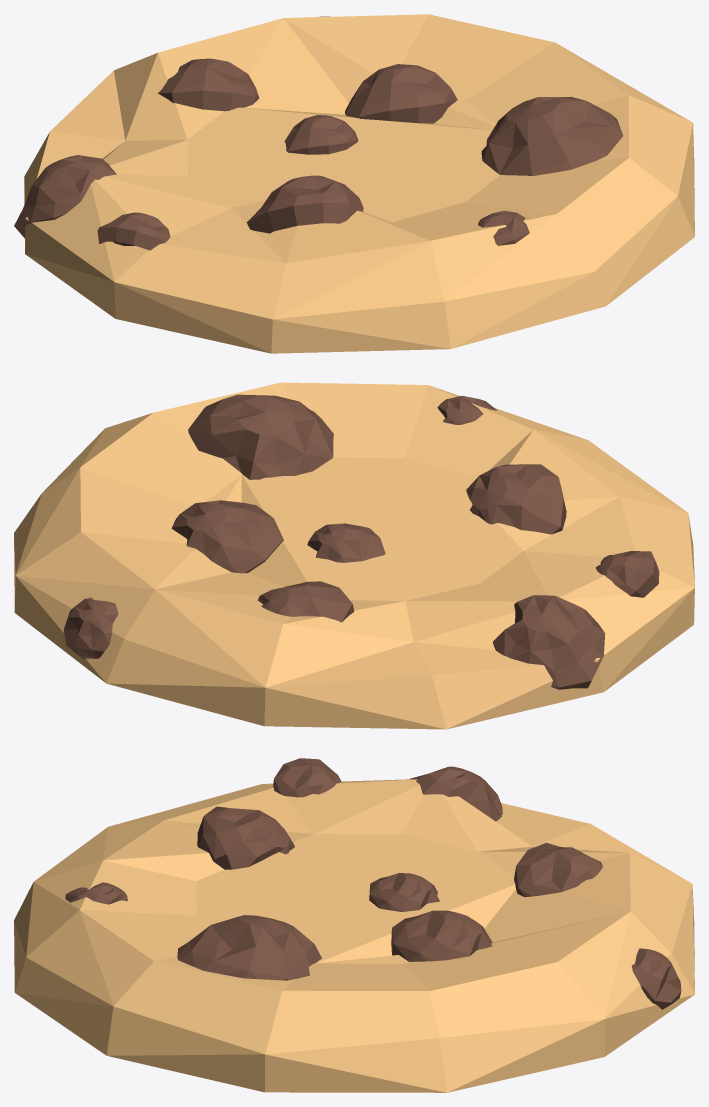
File: cookie.glb
The picture shows the model from 3 angles, top to bottom: view 1: azimuth 30°, elevation 25°; view 2: azimuth 150°, elevation 25°; view 3: azimuth 270°, elevation 25°; orthographic projection.
Parts seen in each view (by area): view 1: Node; view 2: Node; view 3: Node.
Boxes of the visible parts, x1,y1,x2,y2 form: Node: [14, 14, 694, 353]; Node: [14, 382, 694, 729]; Node: [14, 758, 694, 1092].
Bounding box in the file's own units: 0.1644 × 0.0309 × 0.1644.
